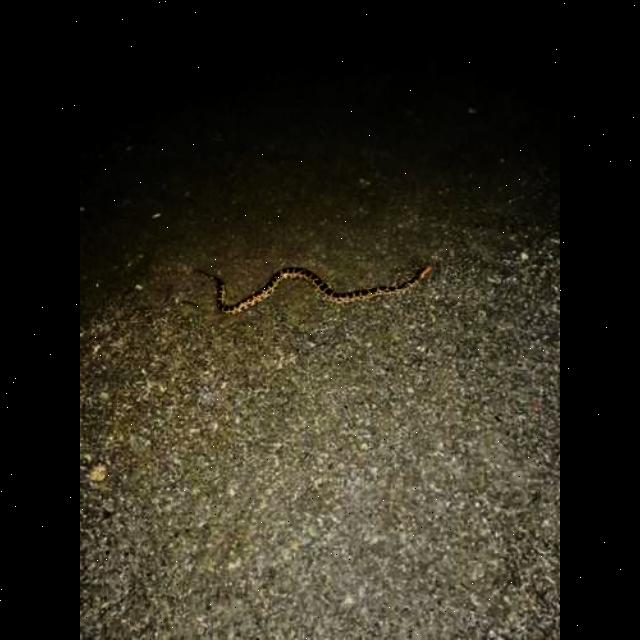snake: (188, 247, 454, 341)
